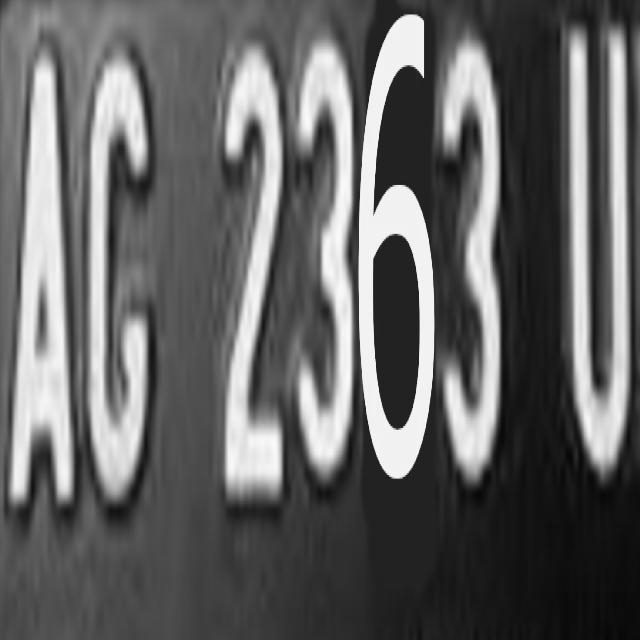2: (222, 43, 286, 541)
3: (296, 35, 358, 482), (448, 33, 501, 488)
6: (366, 16, 436, 480)
A: (1, 34, 80, 520)
G: (80, 19, 194, 505)
U: (555, 10, 640, 486)
